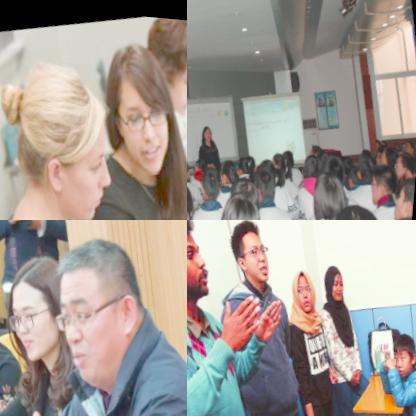head: (34, 220, 176, 407), (0, 49, 133, 220), (86, 23, 187, 180), (0, 244, 86, 364), (224, 220, 278, 286), (187, 220, 219, 316), (326, 184, 397, 220), (217, 179, 275, 220), (313, 161, 355, 212), (366, 154, 409, 201), (233, 167, 269, 216), (287, 262, 322, 312), (386, 323, 416, 374), (389, 165, 416, 220), (318, 257, 350, 301), (201, 159, 231, 203), (255, 159, 284, 201), (187, 173, 206, 220), (220, 151, 245, 186), (303, 146, 328, 178), (325, 145, 351, 175), (392, 139, 416, 171), (263, 148, 284, 178), (360, 148, 380, 176), (239, 149, 258, 178), (309, 131, 329, 158), (349, 157, 368, 185), (384, 139, 403, 166), (246, 146, 264, 173), (274, 144, 292, 170), (343, 147, 361, 171), (283, 139, 300, 164), (364, 139, 382, 160), (194, 152, 211, 172), (187, 151, 197, 178), (204, 120, 217, 139), (406, 128, 416, 145), (375, 129, 384, 145), (382, 131, 392, 143)
